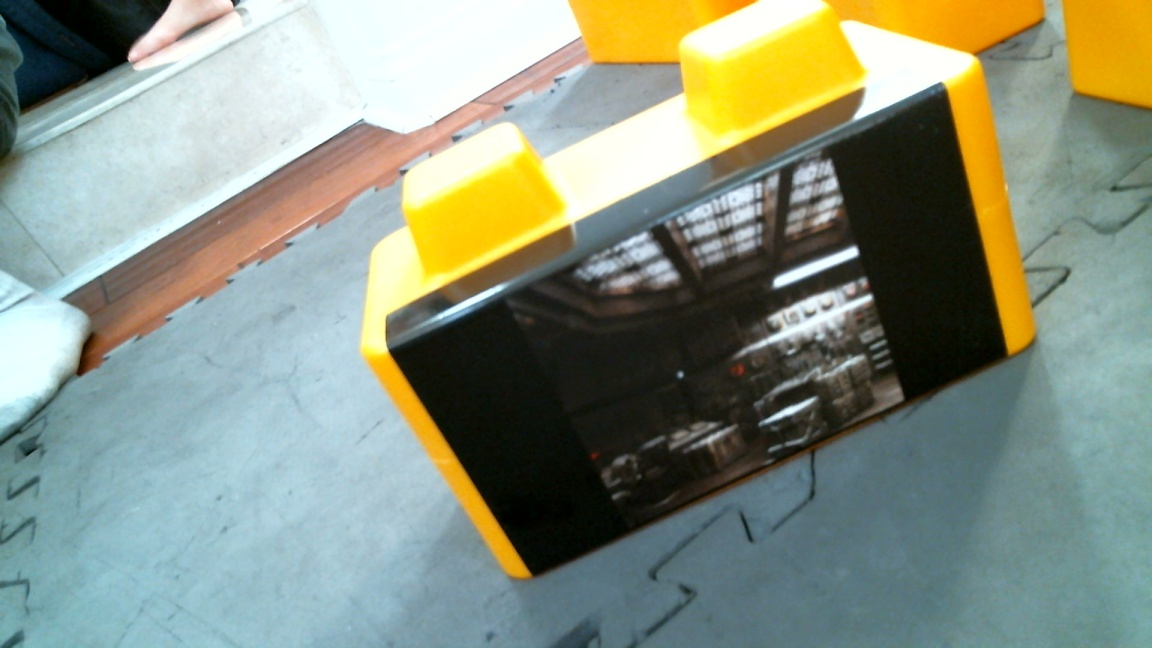skystone: (297, 2, 1055, 600)
